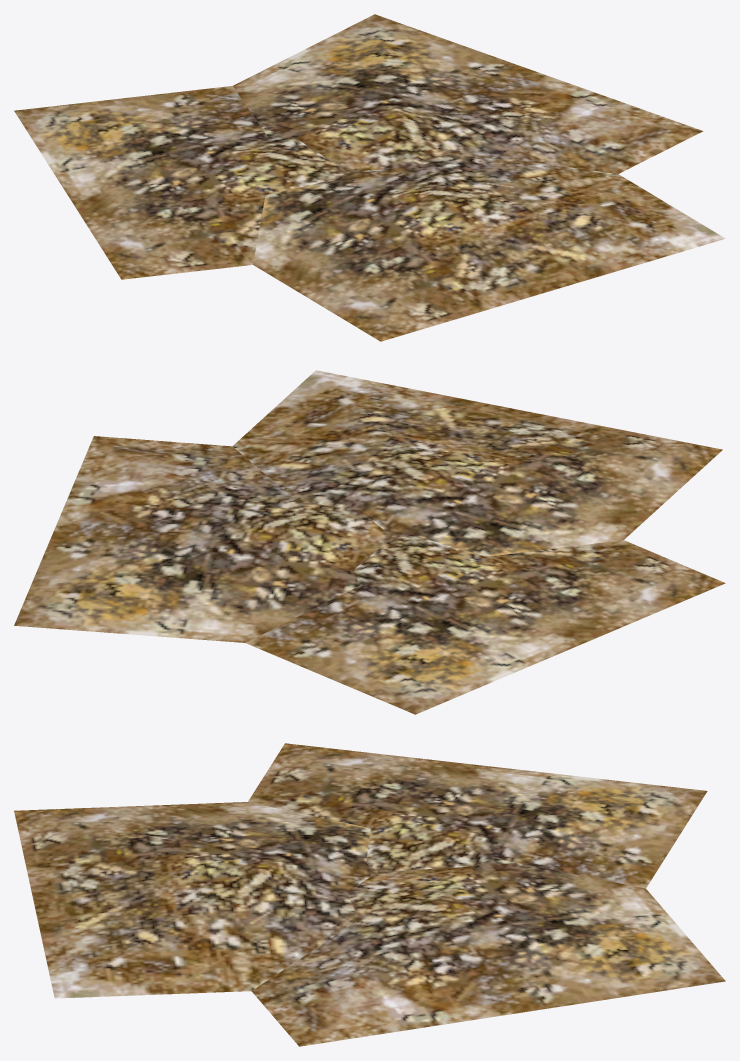
The model's file is destruction_medium_base.glb.
3 renders of one model, top to bottom at view 1: azimuth 30°, elevation 25°; view 2: azimuth 150°, elevation 25°; view 3: azimuth 270°, elevation 25°, orthographic. The views are drawn at different scales.
Visible parts, largest first — view 1: MeshRoot; view 2: MeshRoot; view 3: MeshRoot.
Boxes of the visible parts, x1,y1,x2,y2 form: MeshRoot: (14, 14, 725, 341); MeshRoot: (14, 370, 725, 714); MeshRoot: (14, 743, 725, 1046).
Size of the model in its own units: 11.03 by 0.3958 by 10.94.
Materials: 1 (1 with a texture image).
